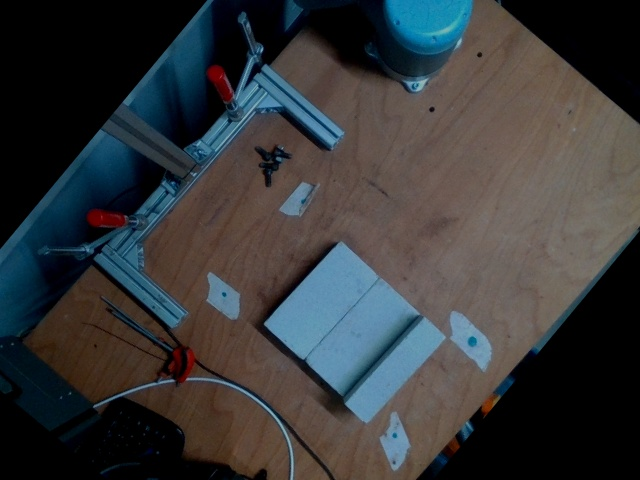brick-side: (342, 315, 449, 426)
